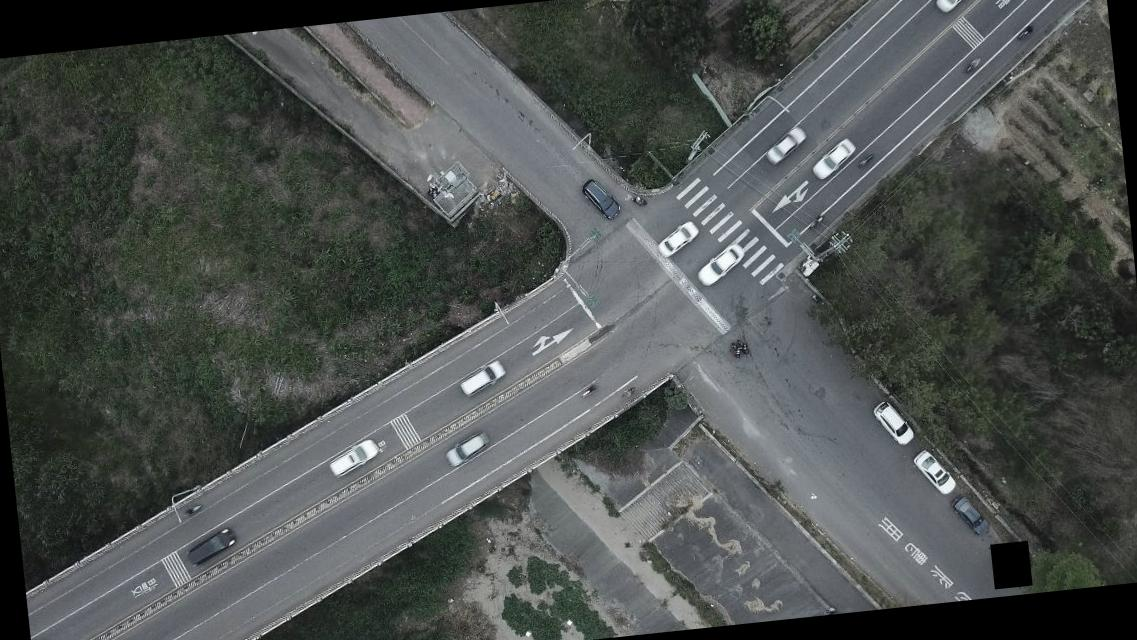vehicle: (180, 524, 238, 568), (325, 437, 384, 480), (870, 398, 917, 450), (912, 446, 960, 496), (693, 242, 748, 284), (578, 174, 624, 221), (440, 429, 492, 470), (812, 136, 861, 179), (948, 493, 992, 539), (765, 122, 812, 165), (456, 359, 508, 397), (655, 218, 703, 258), (930, 0, 982, 15)
